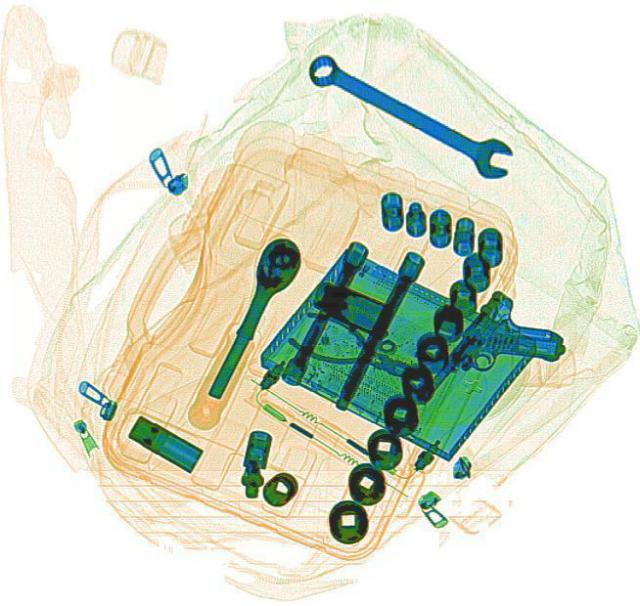Gun: (408, 284, 574, 438)
Pliers: (284, 302, 426, 392)
Wrench: (298, 45, 520, 184)
